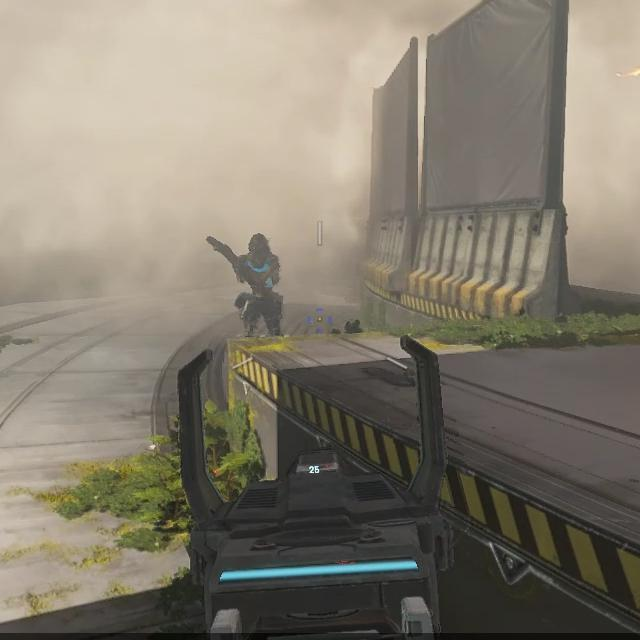avatar: (235, 230, 283, 337)
